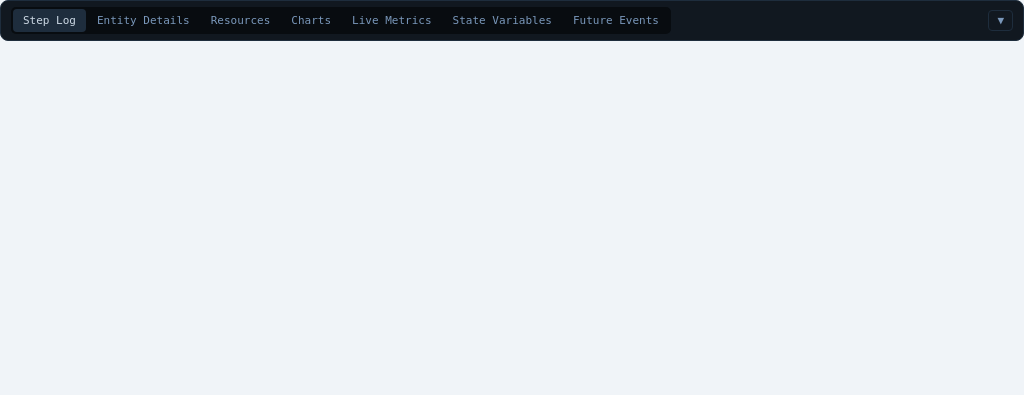
it: BottomPanel — F9C.8 › expand toggle restores panel body
This screenshot has width=1024, height=395.
// Panel starts collapsed — expand it
Click the button named "expand details": [1001, 20] box 988,10 -> 1013,31
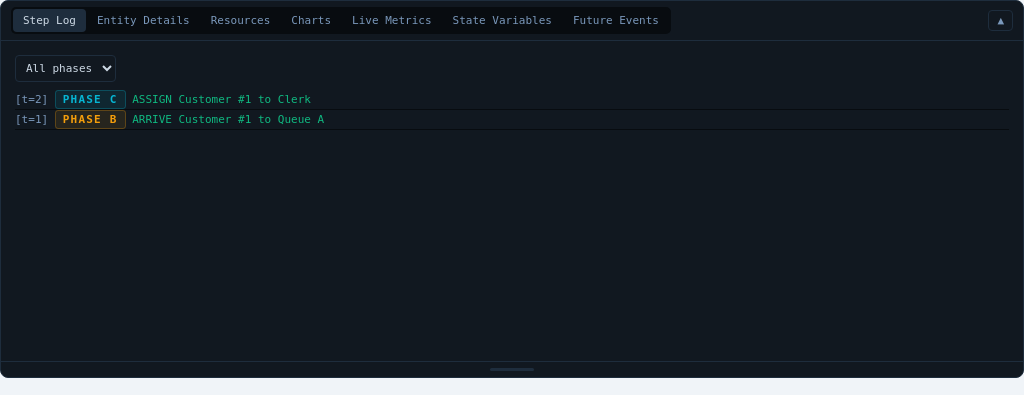
Check: the text "[t=1] Phase B ARRIVE Customer #1 to Queue A" is shown, box 15,110 -> 1009,130
